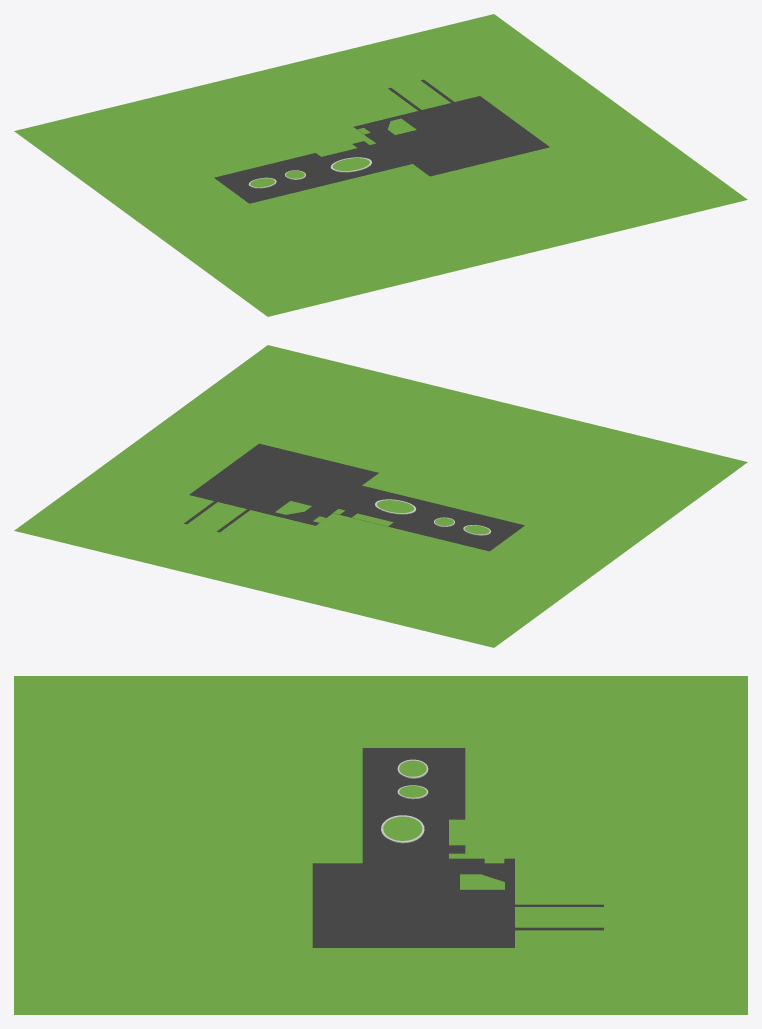
The model's file is CommonArea.FBX.
3 views of the same model, one above another, from view 1: azimuth 30°, elevation 25°; view 2: azimuth 150°, elevation 25°; view 3: azimuth 270°, elevation 25° (orthographic). The views are drawn at different scales.
Parts seen in each view (by area): view 1: Box003; view 2: Box003; view 3: Box003.
Boxes of the visible parts, x1,y1,x2,y2 form: Box003: [14, 14, 747, 316]; Box003: [14, 345, 747, 647]; Box003: [14, 676, 747, 1014].
Bounding box in the file's own units: 18.33 × 0.0337 × 16.78.
